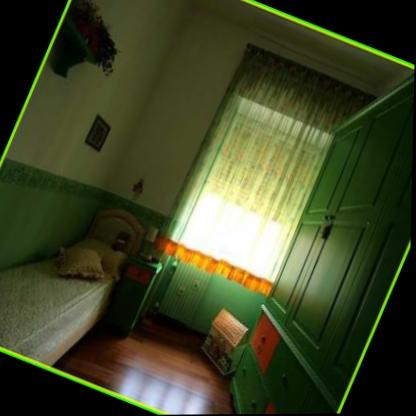Bed: (0, 210, 147, 366)
Closet: (207, 46, 415, 415)
